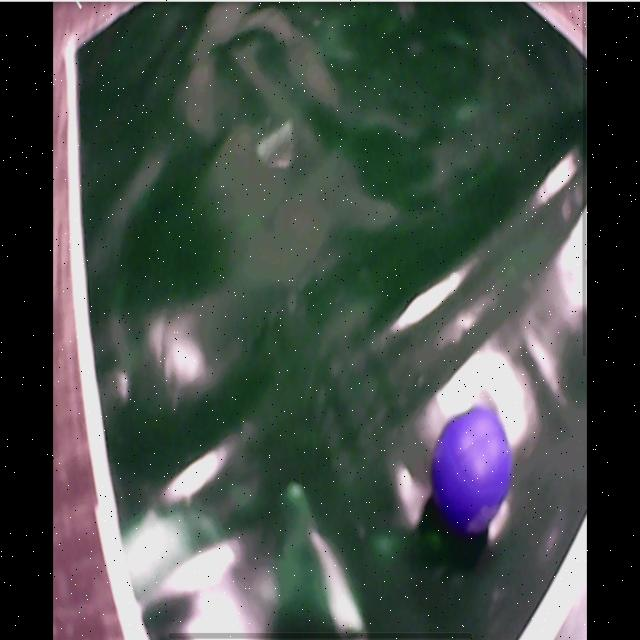ball: (433, 410, 513, 536)
